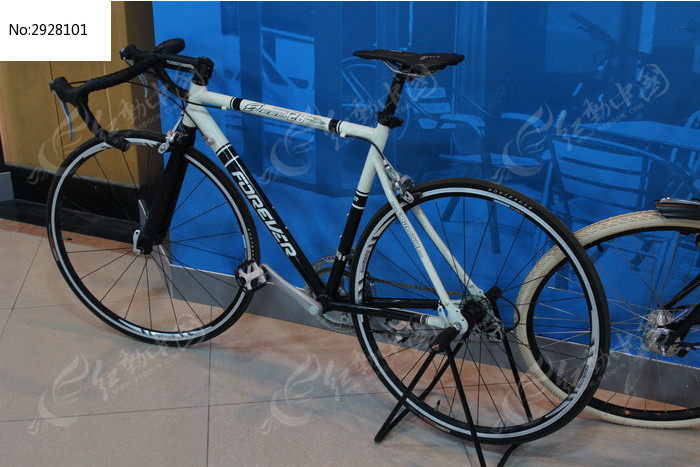MNV: (46, 39, 613, 448)
